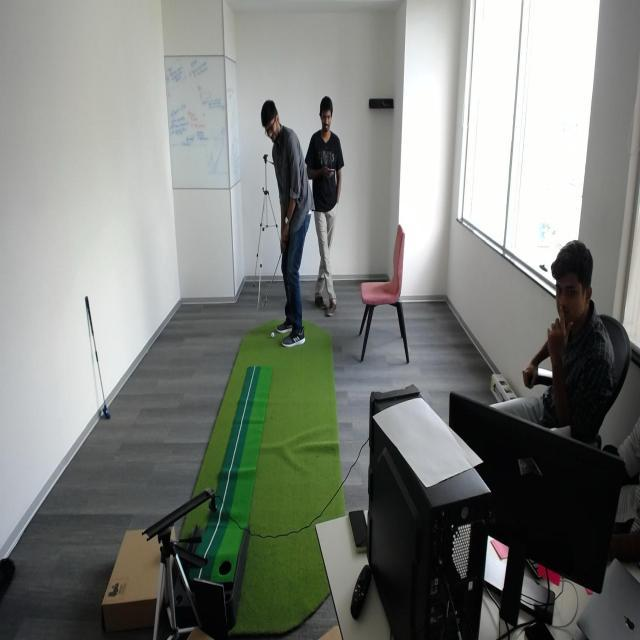ClubHead: (97, 402, 116, 424), (257, 290, 268, 314)
GolfBall: (270, 332, 275, 340)
